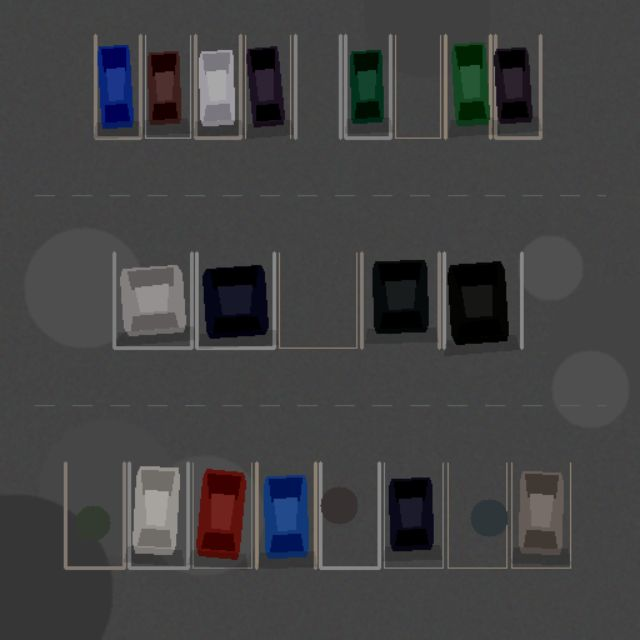space-empty: (279, 252, 356, 348), (65, 463, 124, 568), (320, 463, 379, 568), (447, 463, 506, 568), (295, 35, 340, 138), (395, 35, 440, 138)
space-occupied: (196, 252, 274, 348), (361, 252, 439, 348), (114, 252, 191, 348), (444, 252, 521, 348), (256, 463, 315, 568), (384, 463, 443, 568), (511, 463, 570, 568), (129, 463, 187, 568), (193, 463, 251, 568), (95, 35, 140, 138), (145, 35, 190, 138), (195, 35, 240, 138), (245, 35, 290, 138), (345, 35, 390, 138), (445, 35, 490, 138), (495, 35, 540, 138)
